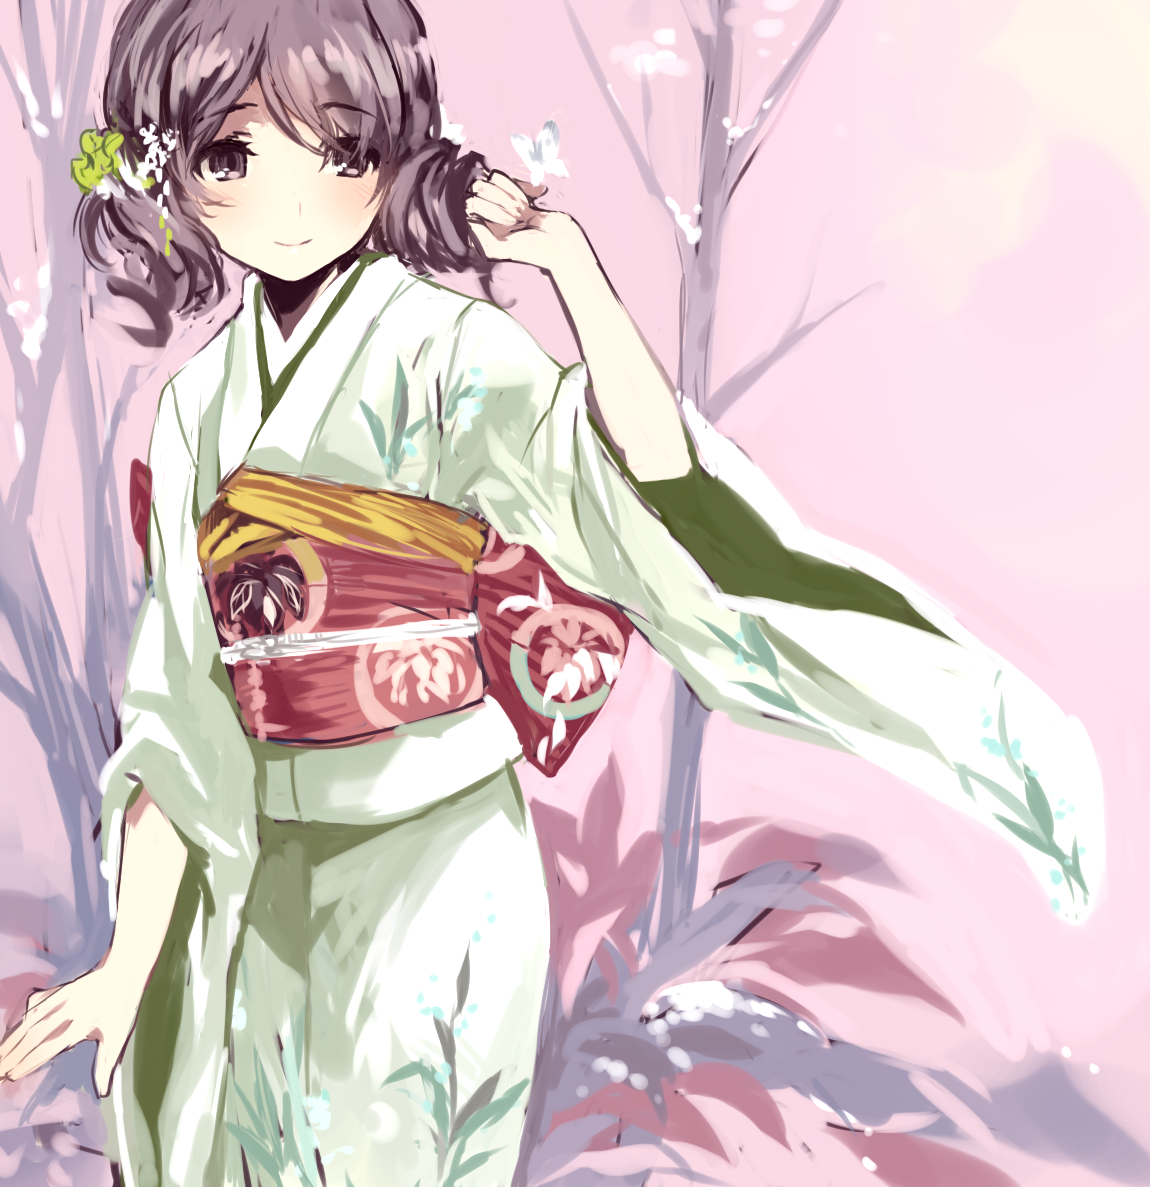纸片人正脸: (109, 4, 456, 294)
